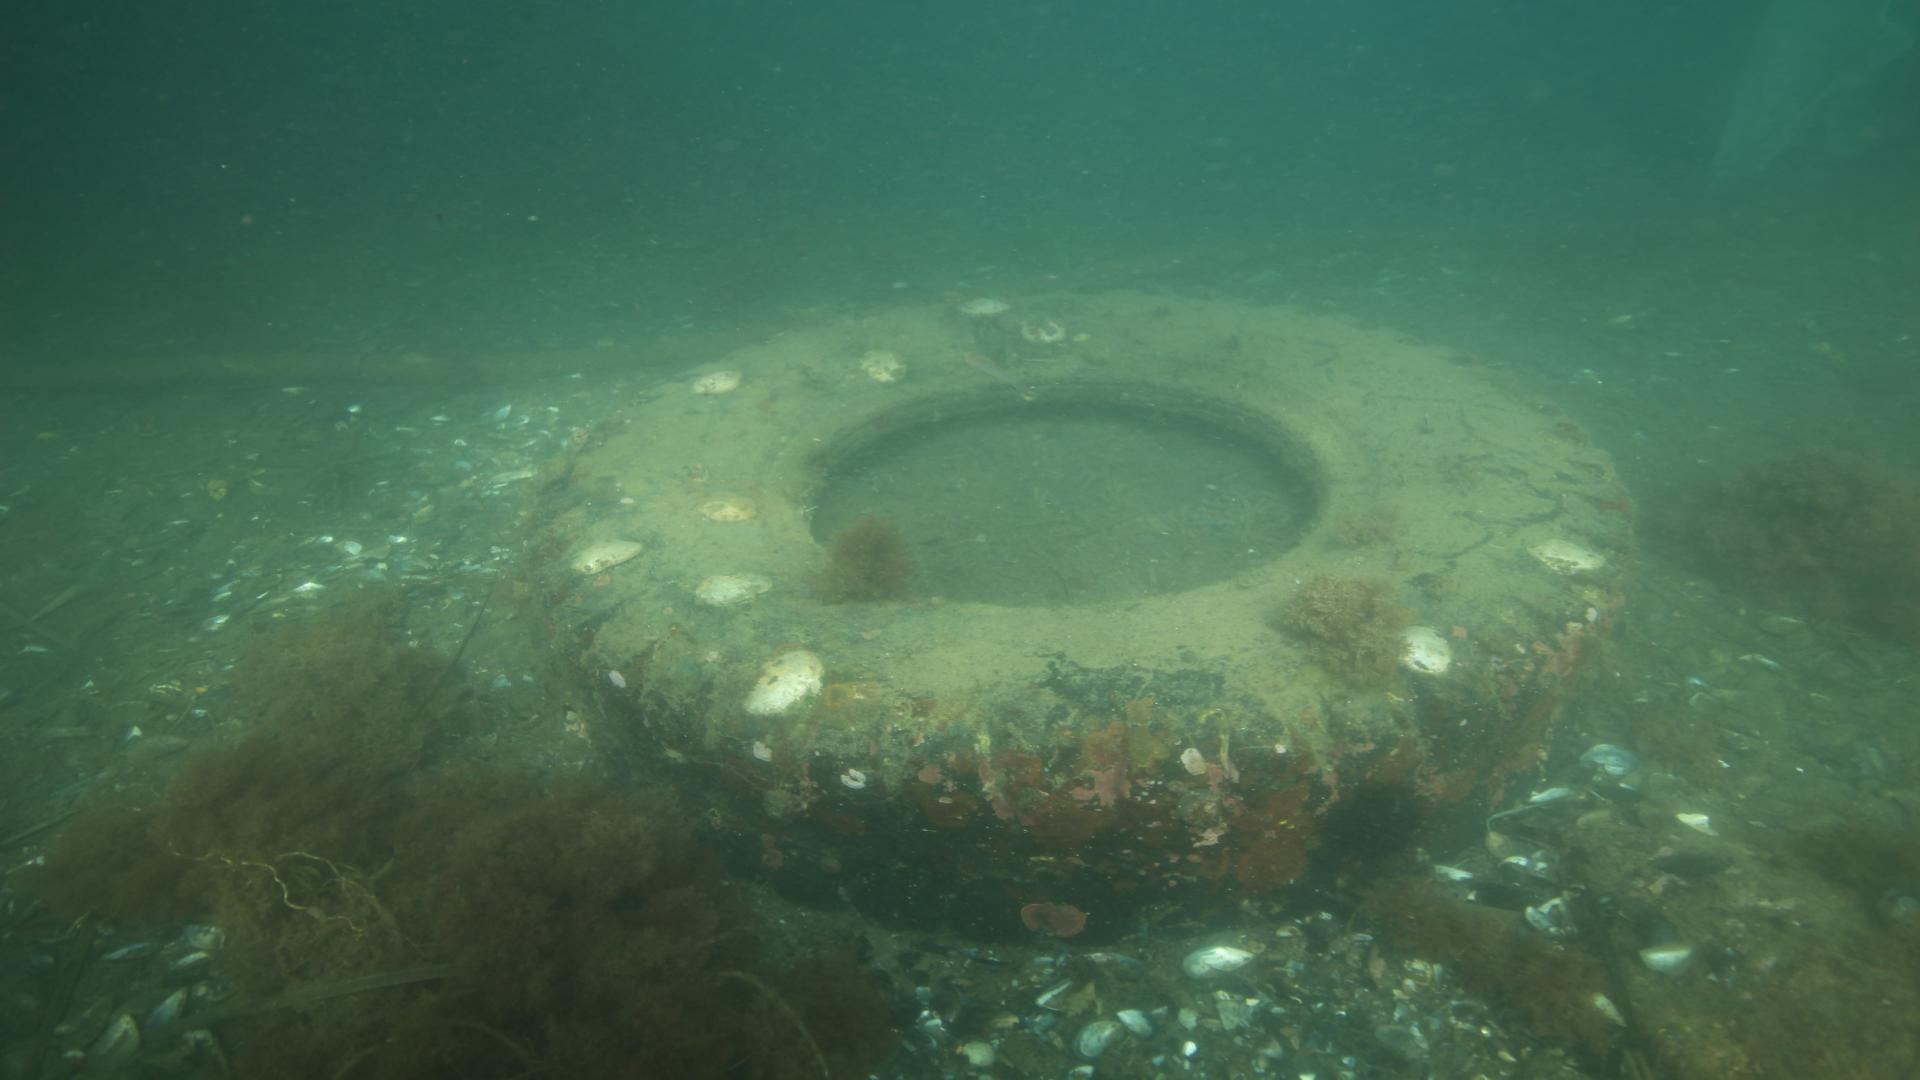tire: (529, 286, 1639, 939)
